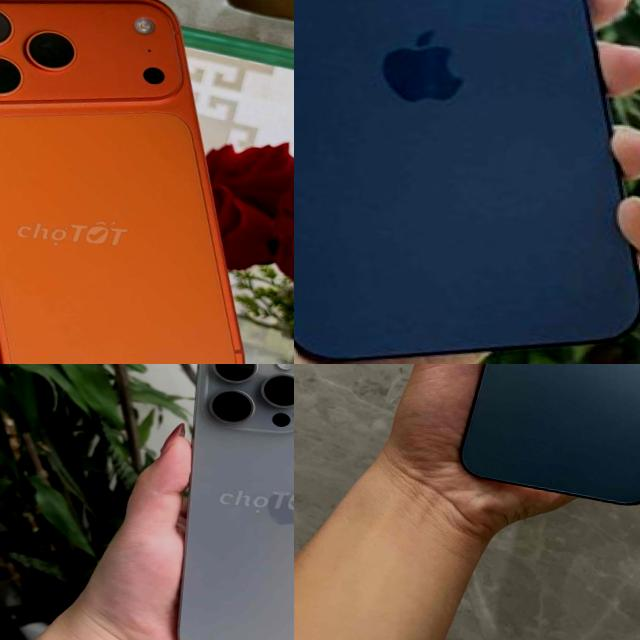gen_12_13: (294, 0, 640, 364), (449, 364, 640, 515)
gen_15: (133, 364, 294, 640)
gen_17: (0, 0, 285, 364)
